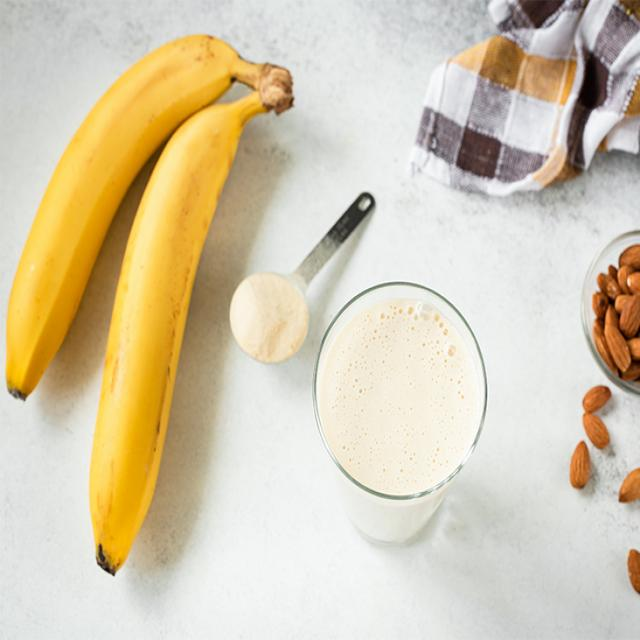banana: (7, 26, 291, 577)
